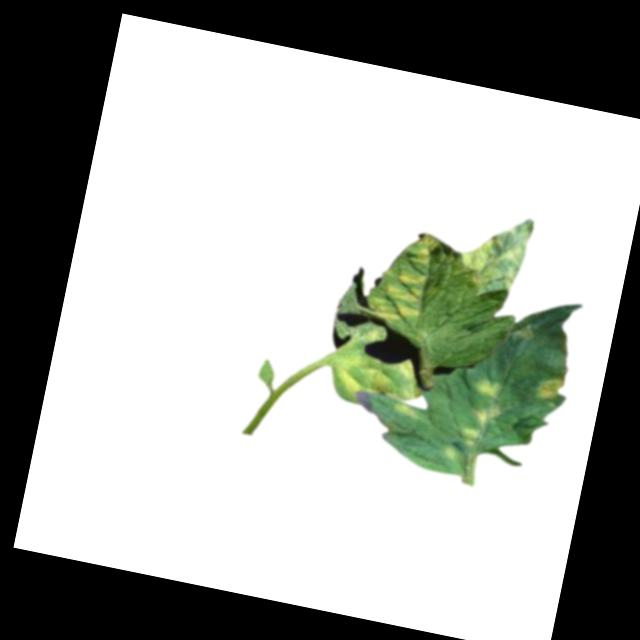Leaf_Mold: (360, 224, 438, 327), (324, 344, 426, 421), (452, 204, 534, 298), (445, 372, 505, 472), (531, 369, 565, 403)
